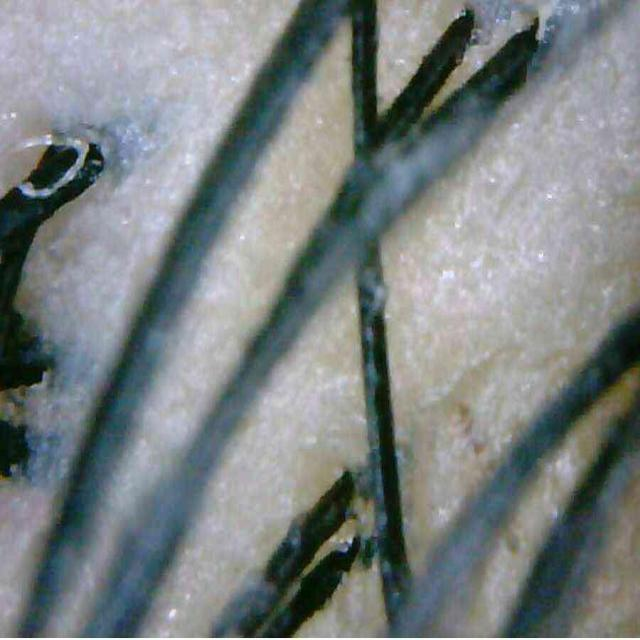o: (420, 210, 555, 303), (570, 81, 640, 203), (93, 94, 173, 189)
